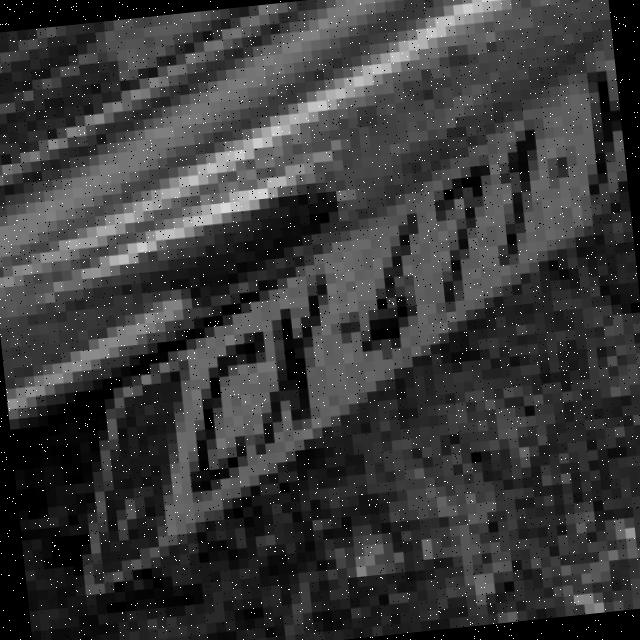EU: (98, 34, 620, 603)
France: (99, 371, 176, 598)
